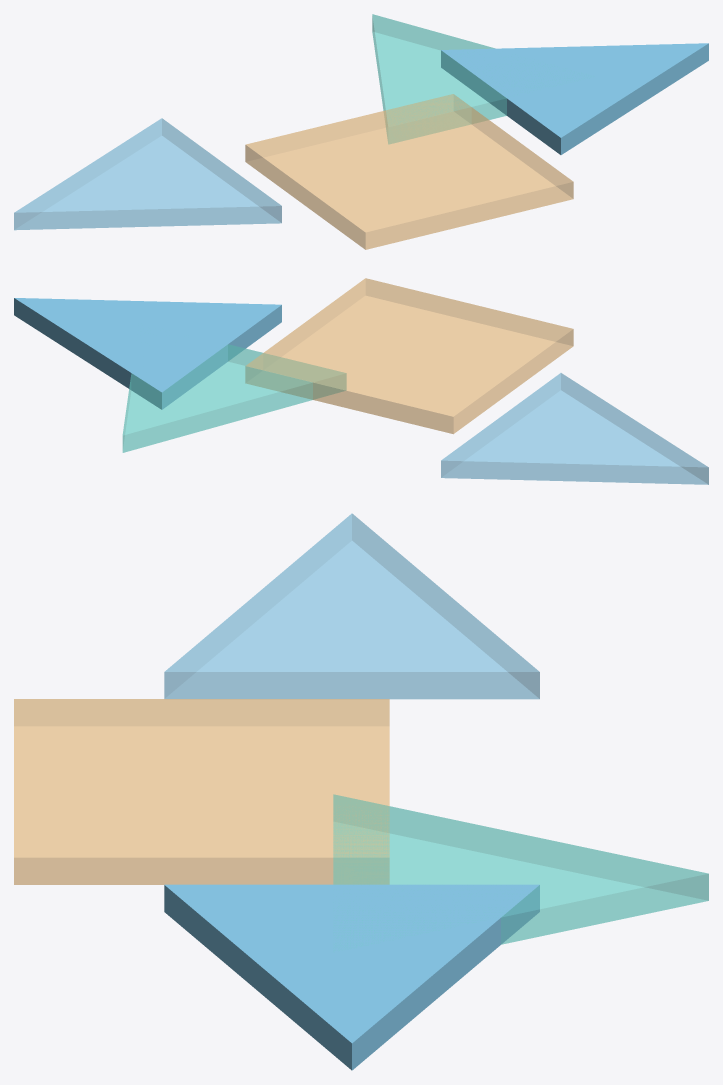
File: uccello_step5.glb
3 views of the same model, one above another, from view 1: azimuth 30°, elevation 25°; view 2: azimuth 150°, elevation 25°; view 3: azimuth 270°, elevation 25° (orthographic). The views are drawn at different scales.
Visible parts, largest first — view 1: quadrato_piccolo, triangolo_isoscele_grande, triangolo_isoscele_grande.001, triangolo_isoscele_piccolo; view 2: quadrato_piccolo, triangolo_isoscele_grande, triangolo_isoscele_grande.001, triangolo_isoscele_piccolo; view 3: quadrato_piccolo, triangolo_isoscele_grande.001, triangolo_isoscele_grande, triangolo_isoscele_piccolo.
Part boxes in pixels (x1=…): quadrato_piccolo: x1=245, y1=94, x2=573, y2=249; triangolo_isoscele_grande: x1=14, y1=118, x2=281, y2=230; triangolo_isoscele_grande.001: x1=441, y1=43, x2=708, y2=154; triangolo_isoscele_piccolo: x1=372, y1=14, x2=587, y2=144; quadrato_piccolo: x1=245, y1=278, x2=573, y2=434; triangolo_isoscele_grande: x1=441, y1=373, x2=708, y2=484; triangolo_isoscele_grande.001: x1=14, y1=298, x2=281, y2=409; triangolo_isoscele_piccolo: x1=122, y1=344, x2=346, y2=452; quadrato_piccolo: x1=14, y1=699, x2=389, y2=884; triangolo_isoscele_grande.001: x1=164, y1=884, x2=539, y2=1070; triangolo_isoscele_grande: x1=164, y1=513, x2=539, y2=699; triangolo_isoscele_piccolo: x1=333, y1=794, x2=708, y2=951.
Size of the model in its own units: 3.34 by 0.08 by 1.85.
